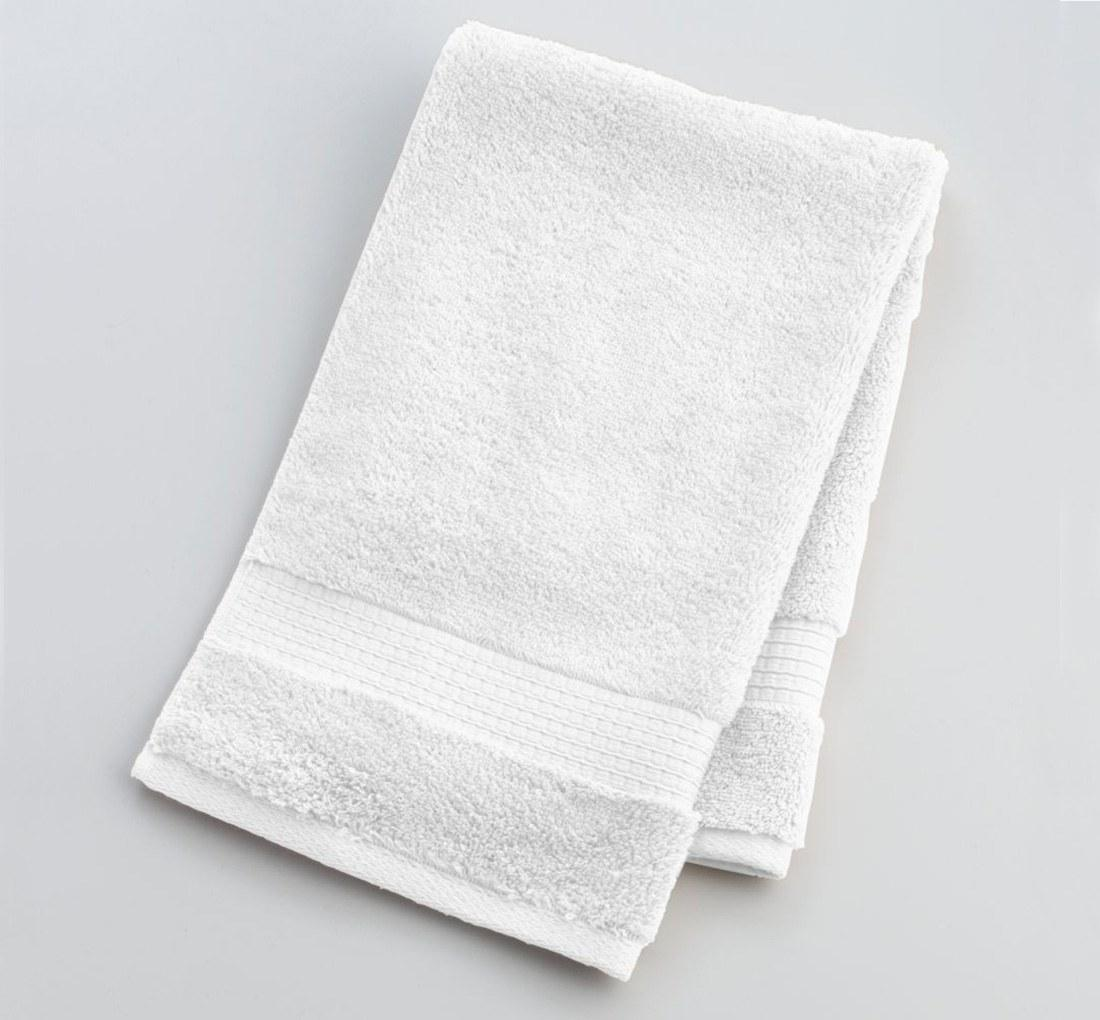towel: (127, 17, 975, 1000)
